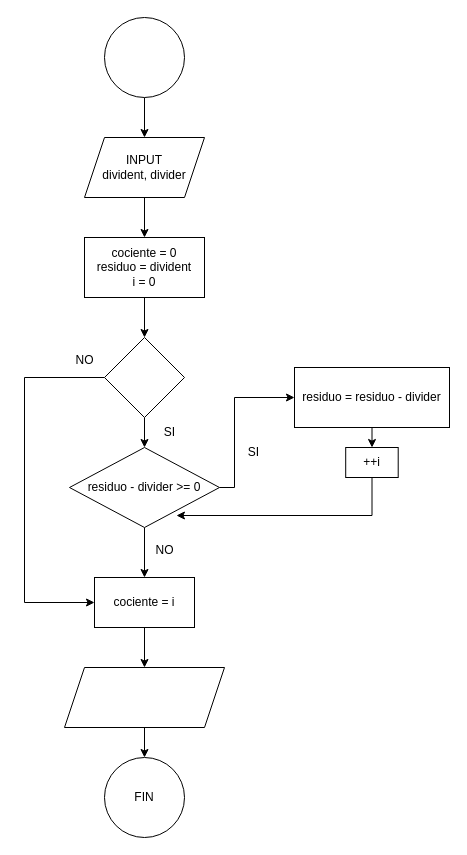
Some shapes in this 467 by 855 pixel diagram are drawn without their labels. Each missing label, with the centre of its shape:
cociente, " ", residuo: [144,697]
divider != 0: [144,377]
INICIO: [144,57]
